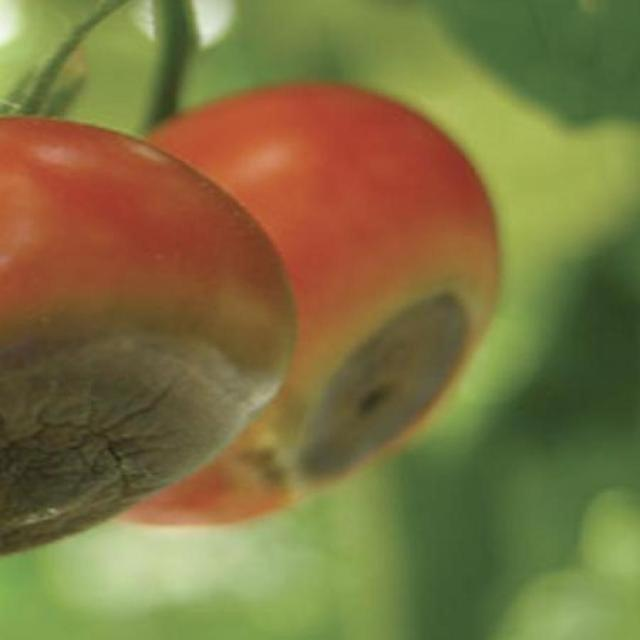Blossom End Rot Fruit: (87, 141, 260, 283)
